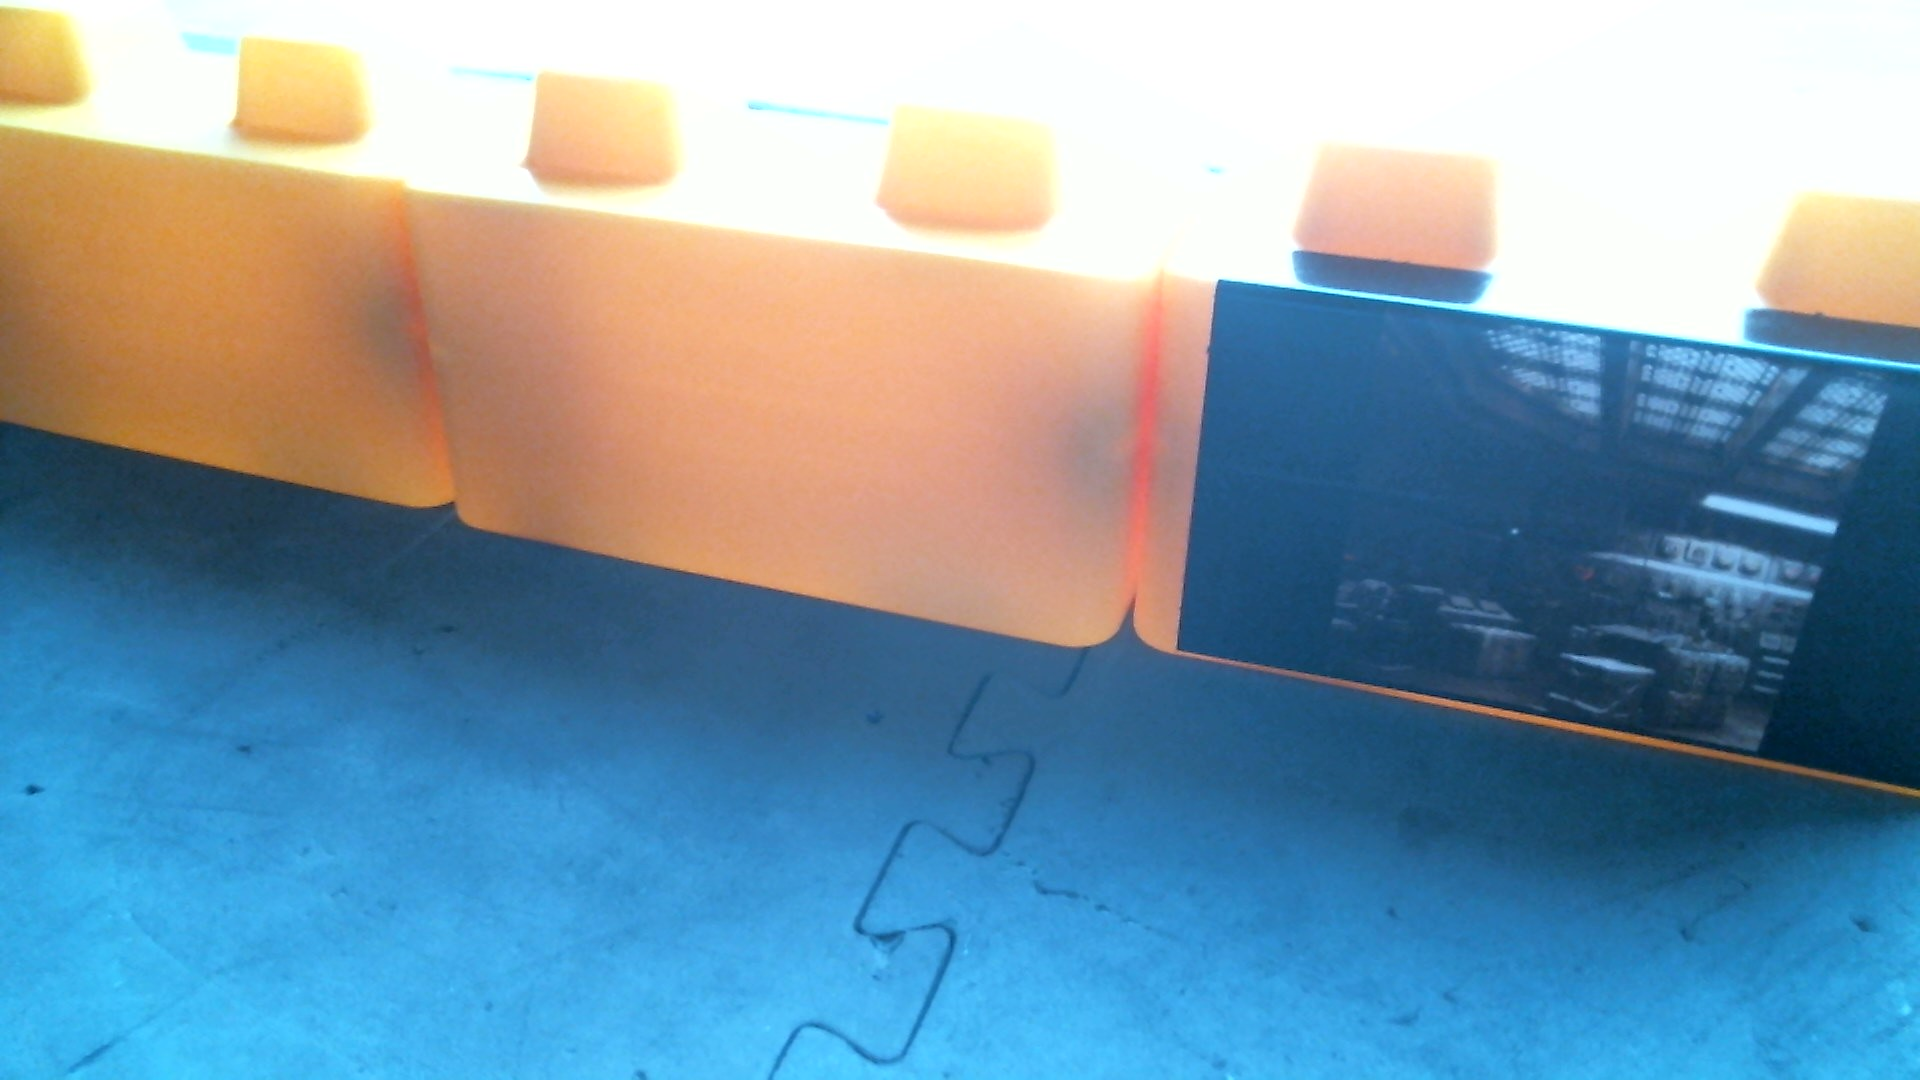right: (1, 3, 1912, 811)
